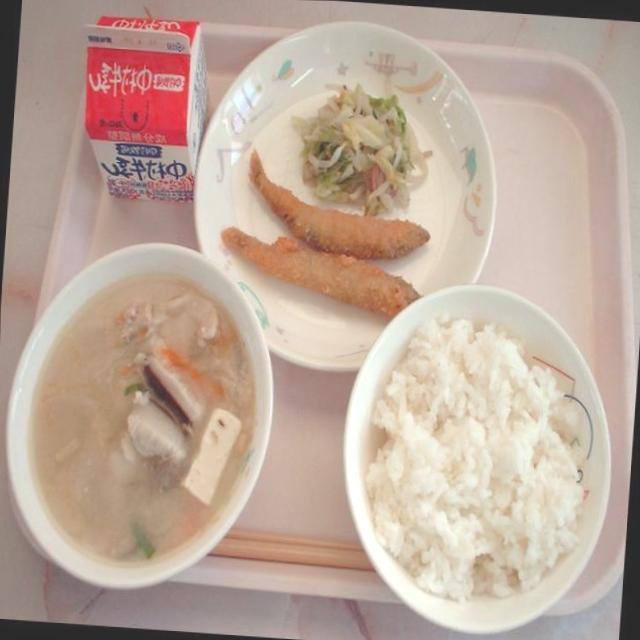Rice: (368, 303, 594, 605)
